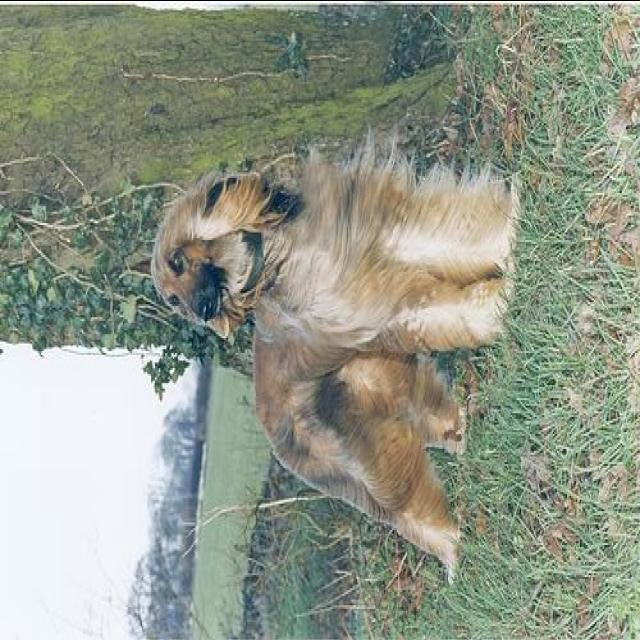afghan_hound: (151, 151, 525, 584)
